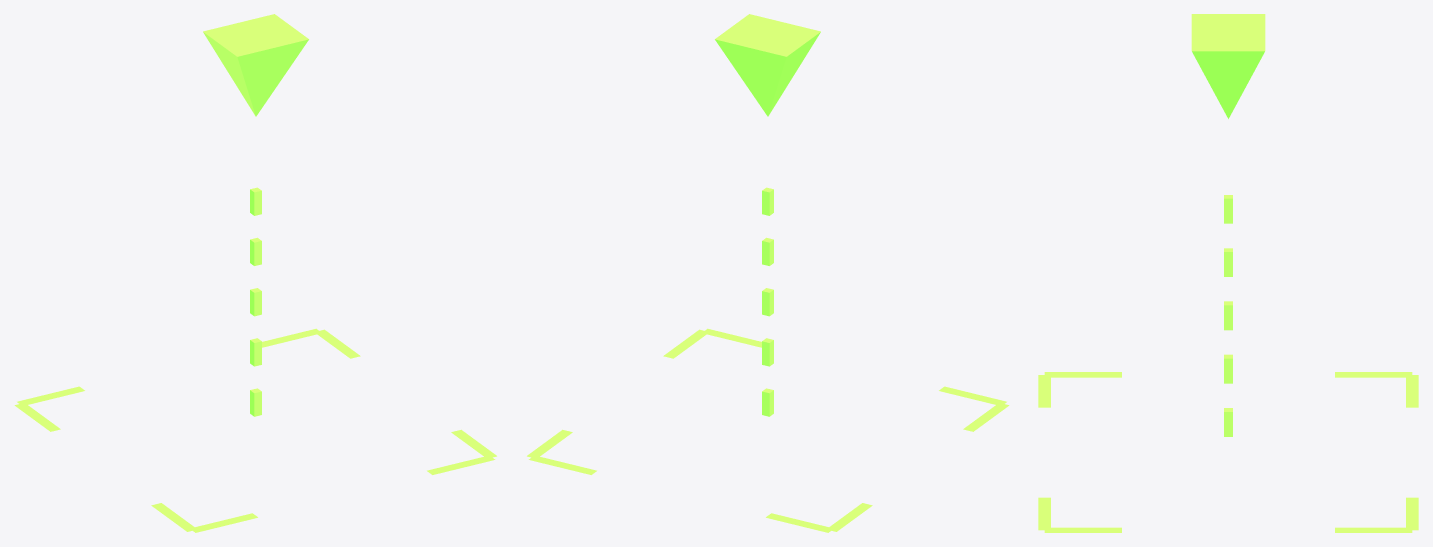
Rendered from SM_VR_TargetMarker.fbx.
The picture shows the model from 3 angles, left to right: view 1: azimuth 30°, elevation 25°; view 2: azimuth 150°, elevation 25°; view 3: azimuth 270°, elevation 25°; orthographic projection. The views are drawn at different scales.
Visible parts, largest first — view 1: SM_VR_TargetMarker; view 2: SM_VR_TargetMarker; view 3: SM_VR_TargetMarker.
Part boxes in pixels (x1,y1,x2,y2): SM_VR_TargetMarker: (14, 14, 496, 532); SM_VR_TargetMarker: (527, 14, 1009, 532); SM_VR_TargetMarker: (1038, 14, 1418, 532).
Size of the model in its own units: 104 by 104 by 126.
